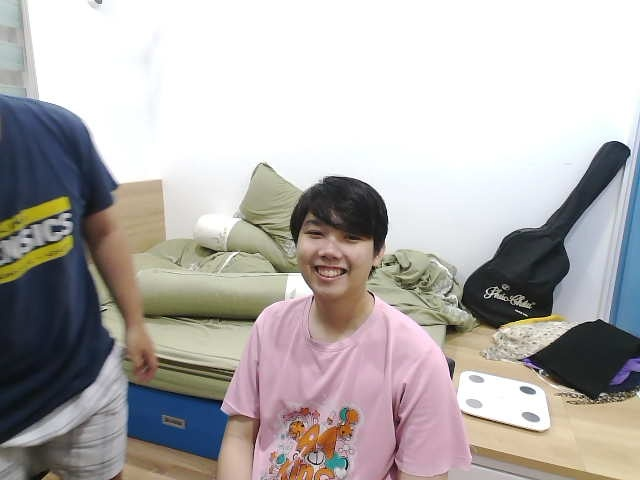face: (289, 176, 389, 297)
